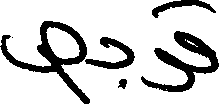ب: (101, 35, 133, 89)
ر: (139, 46, 180, 92)
ص: (0, 18, 86, 101)
ق: (179, 0, 217, 72)
